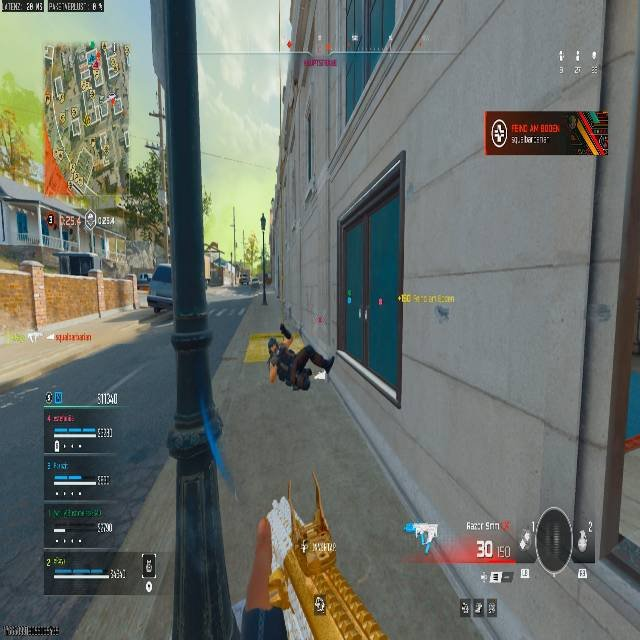player: (268, 321, 331, 391)
